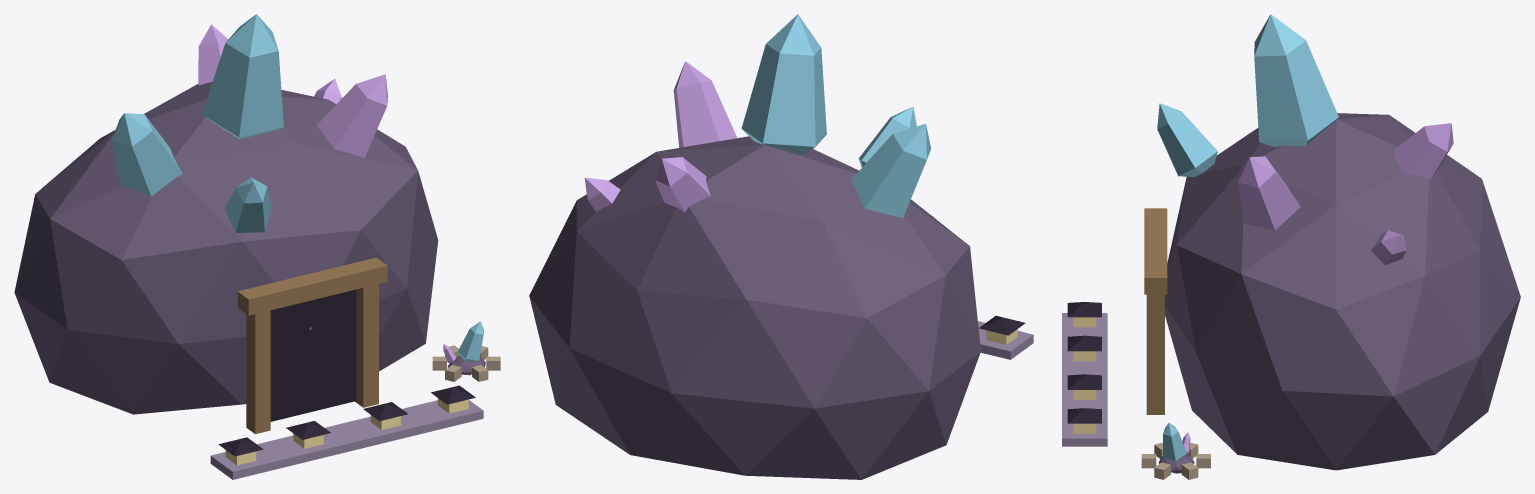
File: cave-landmark-s3.glb
The picture shows the model from 3 angles, left to right: view 1: azimuth 30°, elevation 25°; view 2: azimuth 150°, elevation 25°; view 3: azimuth 270°, elevation 25°; orthographic projection. The views are drawn at different scales.
Parts seen in each view (by area): view 1: cave-landmark-s3; view 2: cave-landmark-s3; view 3: cave-landmark-s3.
Boxes of the visible parts, x1,y1,x2,y2 form: cave-landmark-s3: (14,14,500,479); cave-landmark-s3: (529,14,1033,479); cave-landmark-s3: (1062,14,1520,479).
Size of the model in its own units: 1.99 by 1.81 by 2.01.
